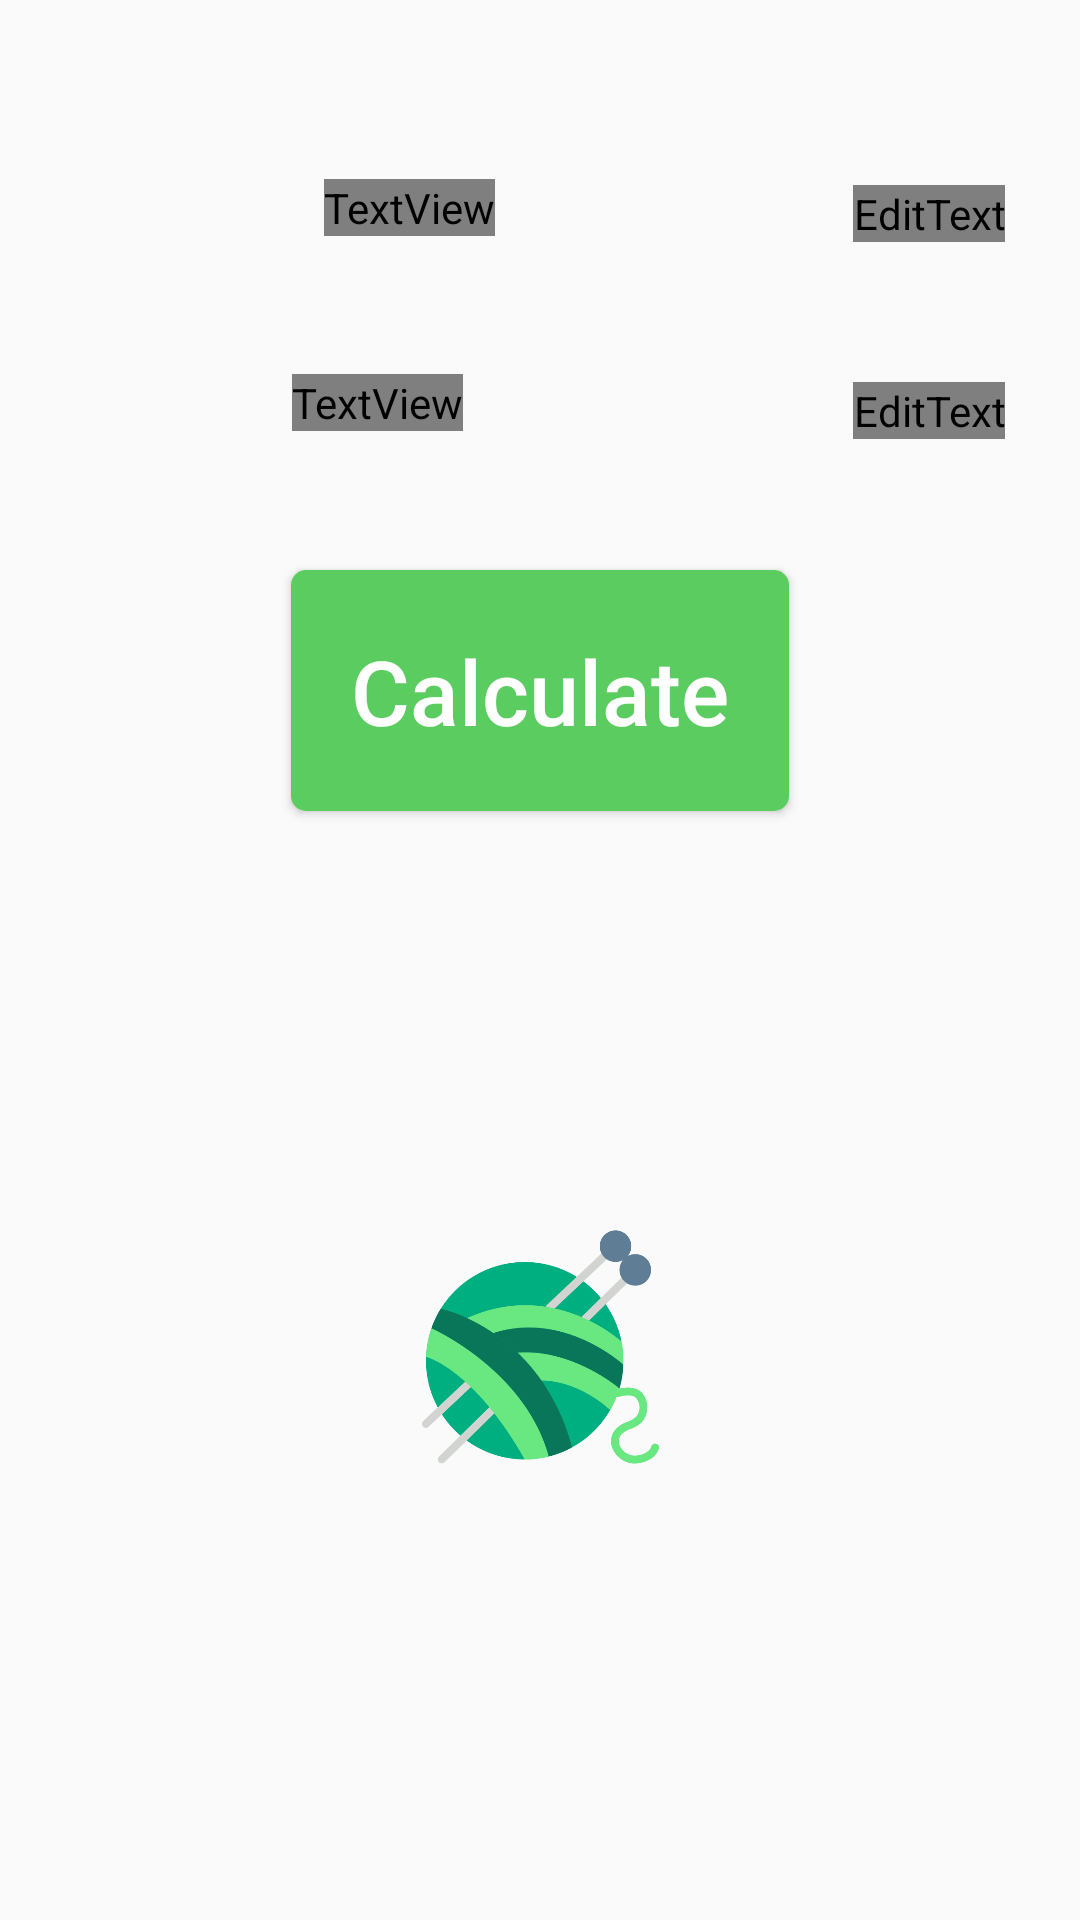

Screen size 1080px x 1920px. Icon name, then its center in pixels as [x,y]:
yarn: [540,1347]
